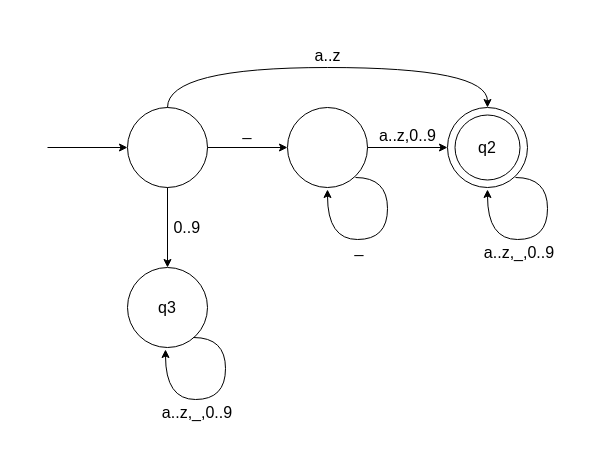
Image size: 605x475. Some labels were removed from this diagram. Here are the shapes that lost their labels. From the top down, the centre of each, then its label:
(x=167, y=147): q0
(x=327, y=147): q1
